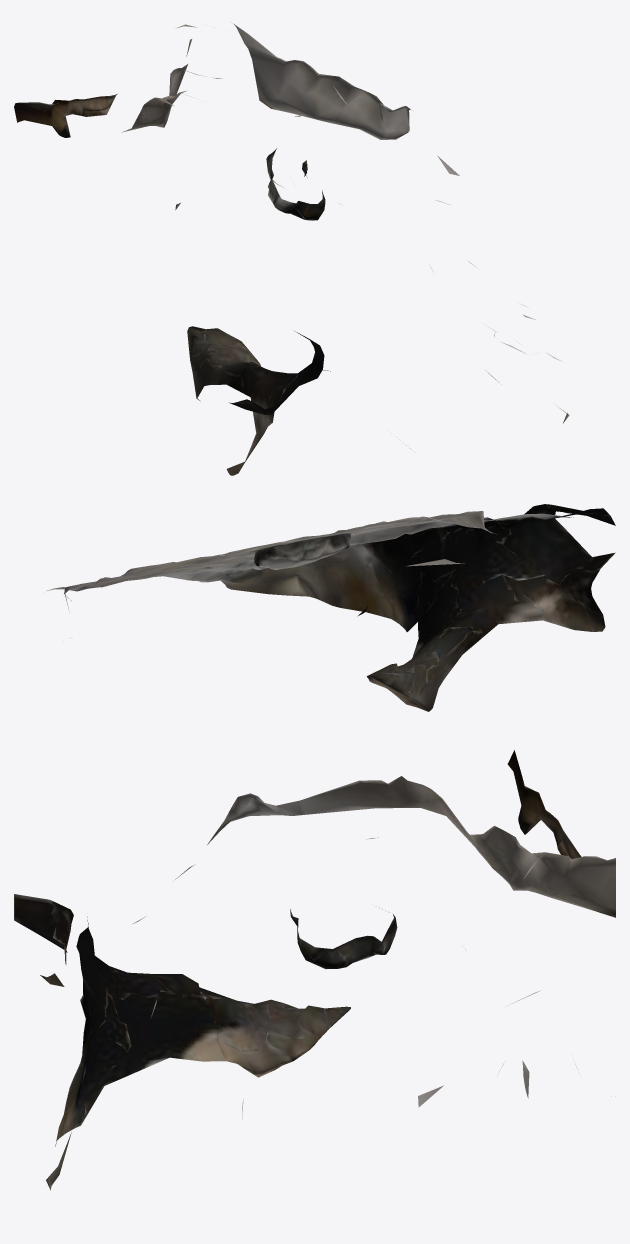
The model's file is hall.glb.
3 renders of one model, top to bottom at view 1: azimuth 30°, elevation 25°; view 2: azimuth 150°, elevation 25°; view 3: azimuth 270°, elevation 25°, orthographic. The views are drawn at different scales.
Bounding box in the file's own units: 1.58 × 0.9822 × 1.89.
1 material, 1 textured.
